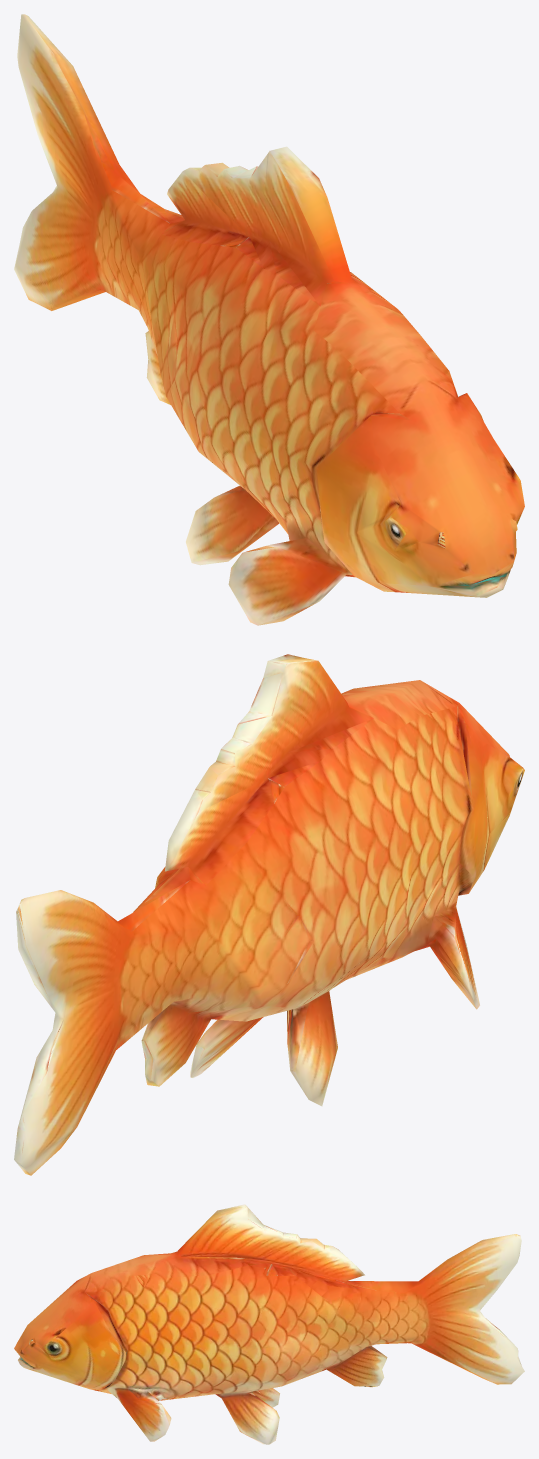
The model's file is river-spirit.glb.
3 renders of one model, top to bottom at view 1: azimuth 30°, elevation 25°; view 2: azimuth 150°, elevation 25°; view 3: azimuth 270°, elevation 25°, orthographic. The views are drawn at different scales.
Parts seen in each view (by area): view 1: river-spirit; view 2: river-spirit; view 3: river-spirit.
Boxes of the visible parts, left/top/right/bottom form: river-spirit: left=14, top=14, right=524, bottom=625; river-spirit: left=14, top=654, right=524, bottom=1175; river-spirit: left=14, top=1204, right=524, bottom=1444.
Size of the model in its own units: 0.294 by 0.4793 by 1.
1 material, 1 textured.
